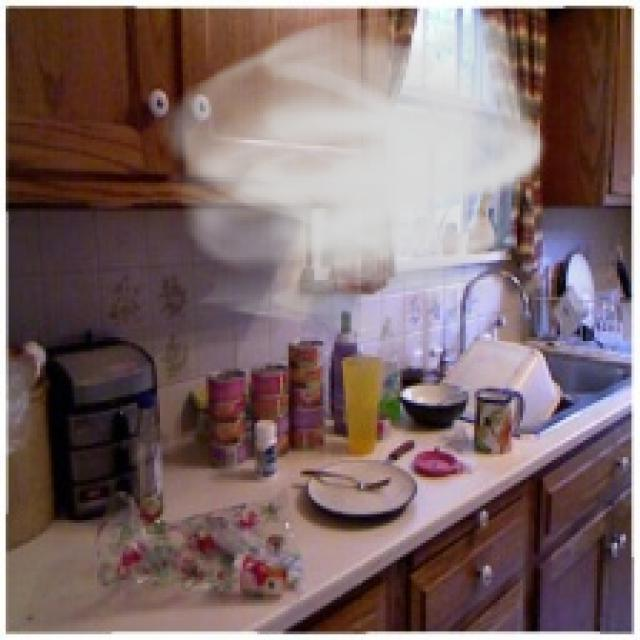Smoke: (152, 3, 548, 360)
